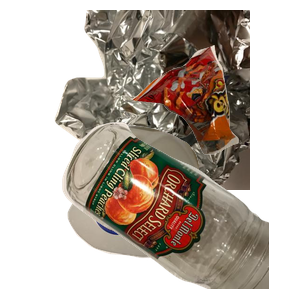glass: (60, 120, 300, 300)
metal: (52, 10, 292, 190)
plastic: (65, 123, 257, 300)
trash: (130, 43, 300, 190)
